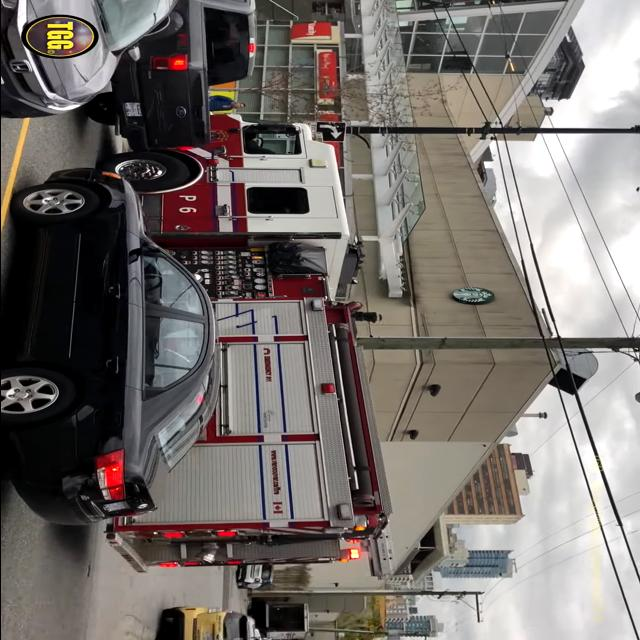emergency-vehicles: (104, 83, 396, 617)
